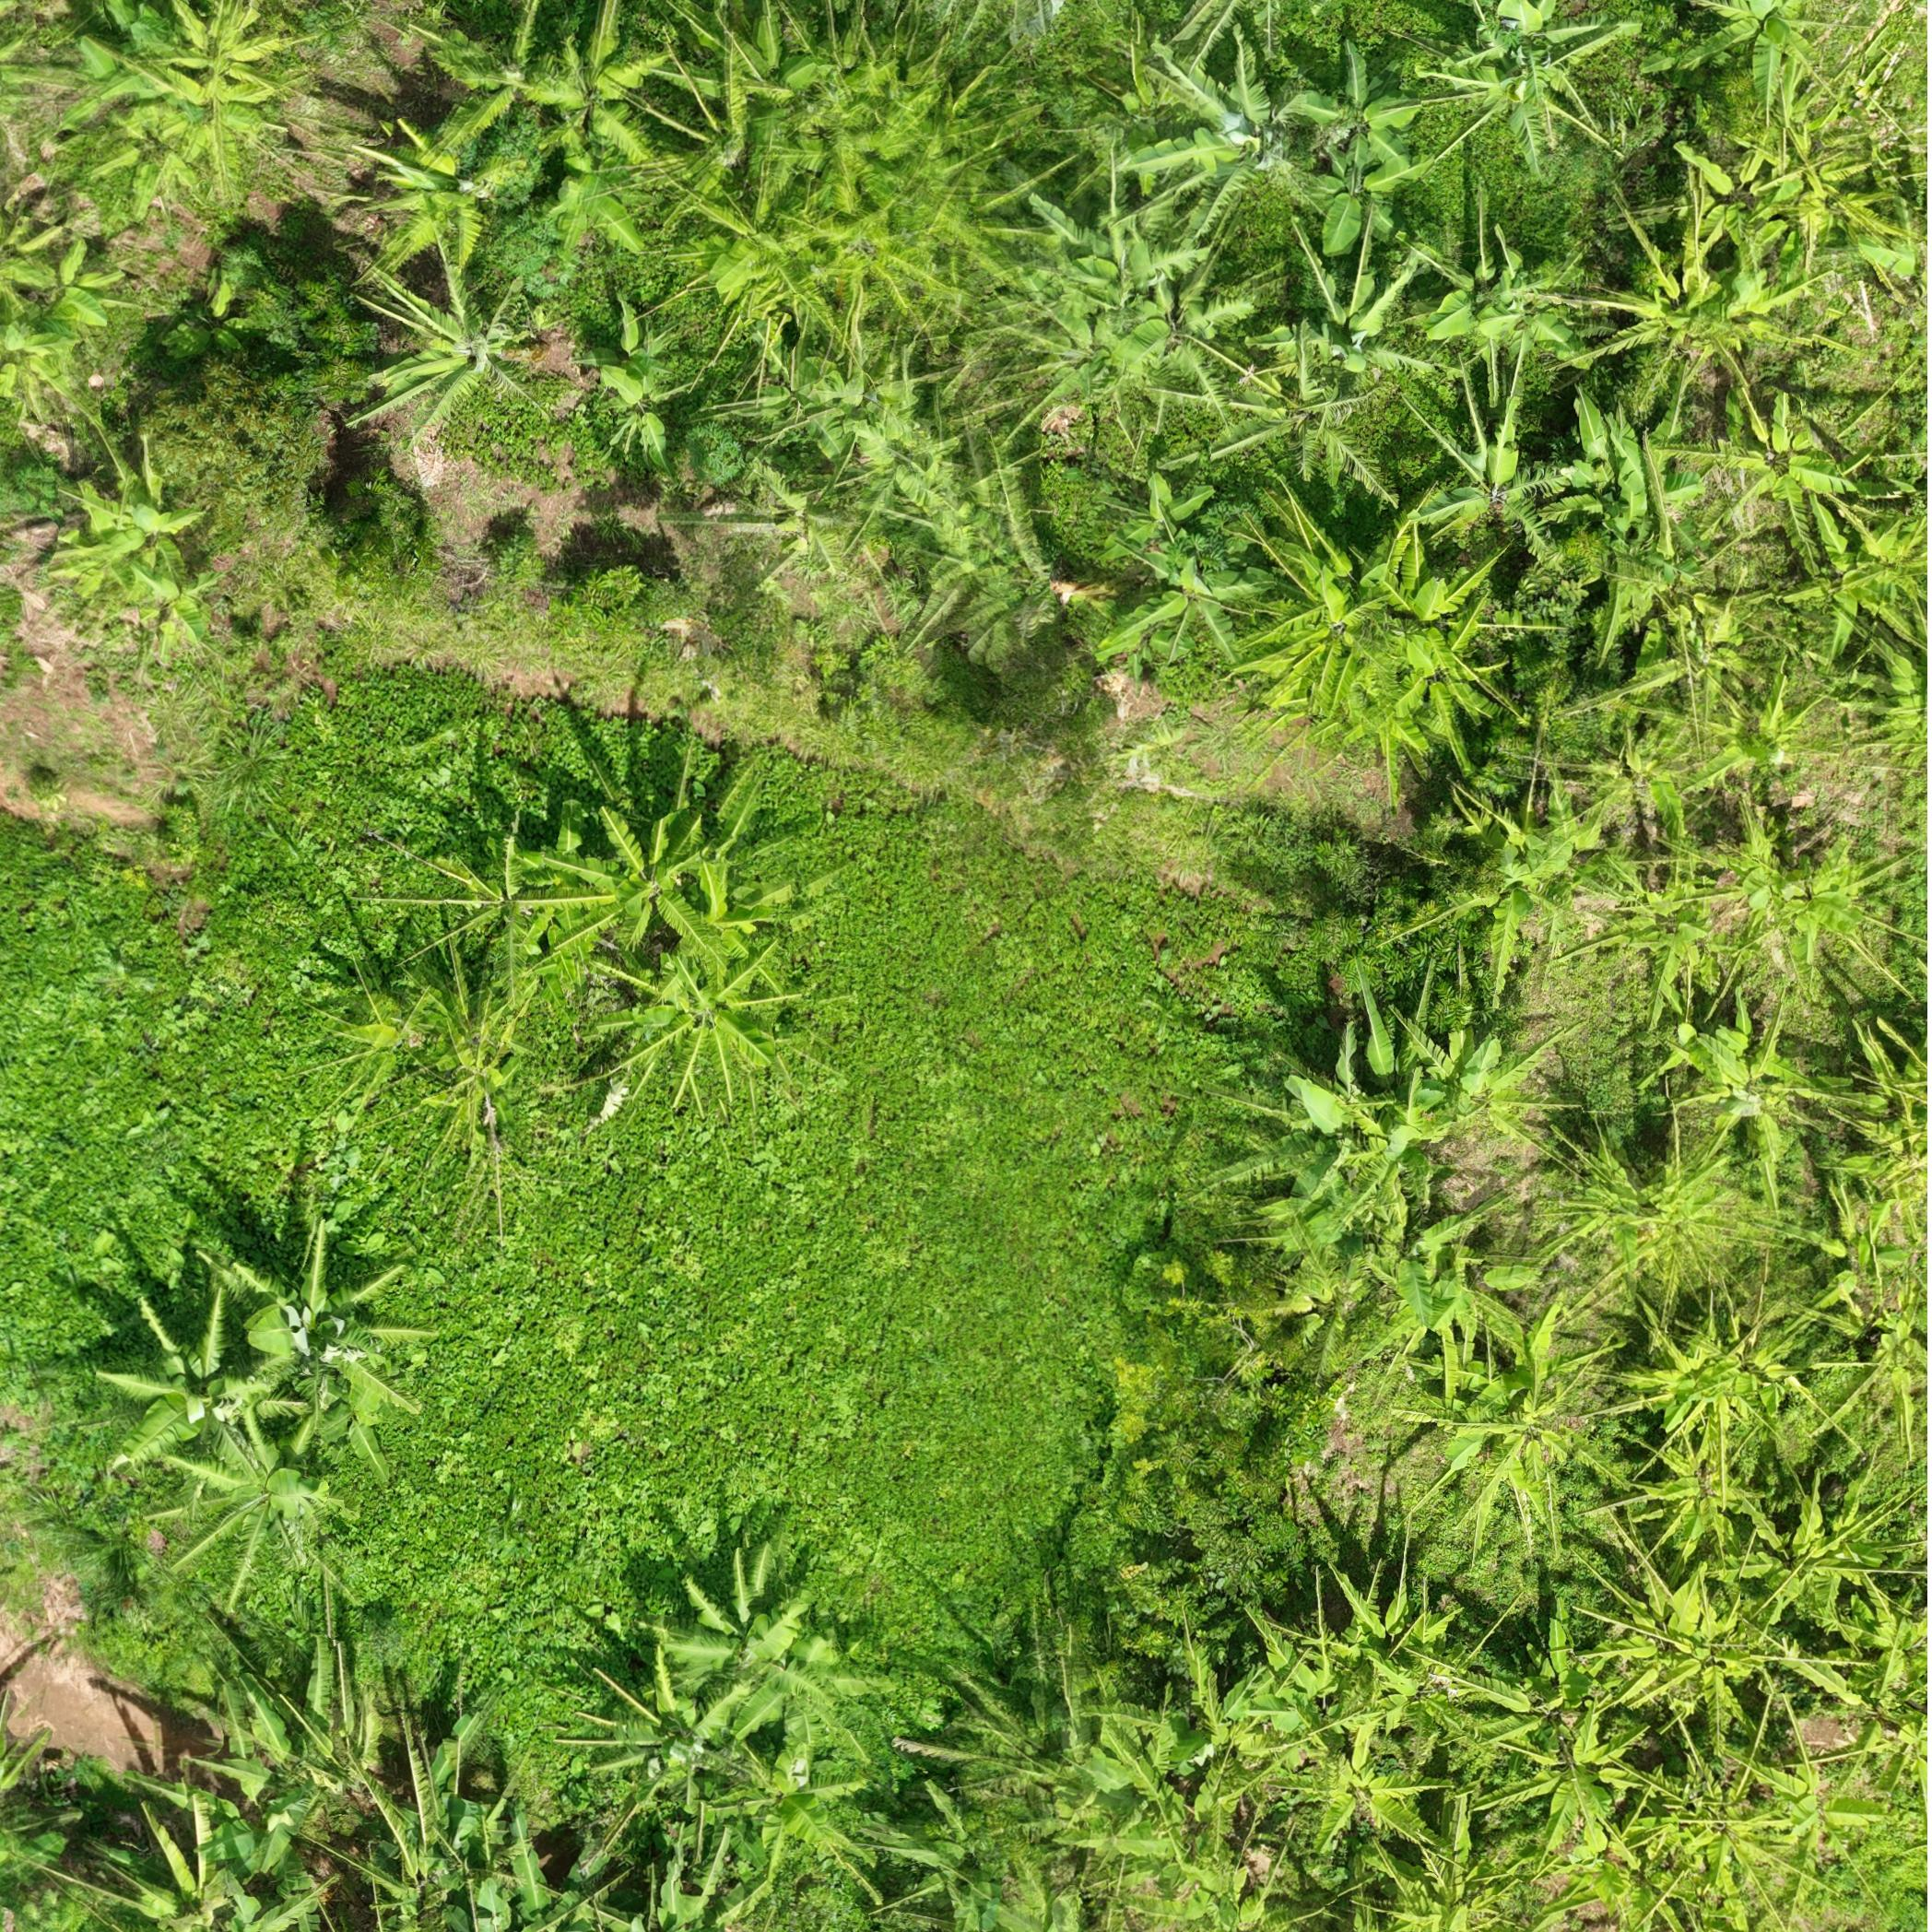Banana: (717, 372, 1044, 614), (1251, 517, 1491, 773), (497, 784, 784, 970), (1684, 793, 1920, 989), (1578, 212, 1817, 405), (1403, 794, 1612, 1007), (704, 5, 954, 175), (1511, 407, 1691, 633), (1205, 1079, 1449, 1242), (1113, 34, 1309, 235), (694, 184, 947, 338), (566, 939, 805, 1102), (1560, 835, 1755, 1031), (1444, 5, 1642, 186), (322, 947, 518, 1127), (354, 267, 541, 428), (1281, 55, 1435, 249), (115, 27, 311, 179), (1713, 396, 1872, 584), (37, 479, 209, 653), (506, 11, 667, 191), (1368, 991, 1545, 1145), (1783, 1033, 1913, 1242), (1555, 1115, 1750, 1246), (361, 120, 510, 290), (1104, 520, 1253, 676), (1667, 674, 1828, 810), (426, 7, 547, 147)
